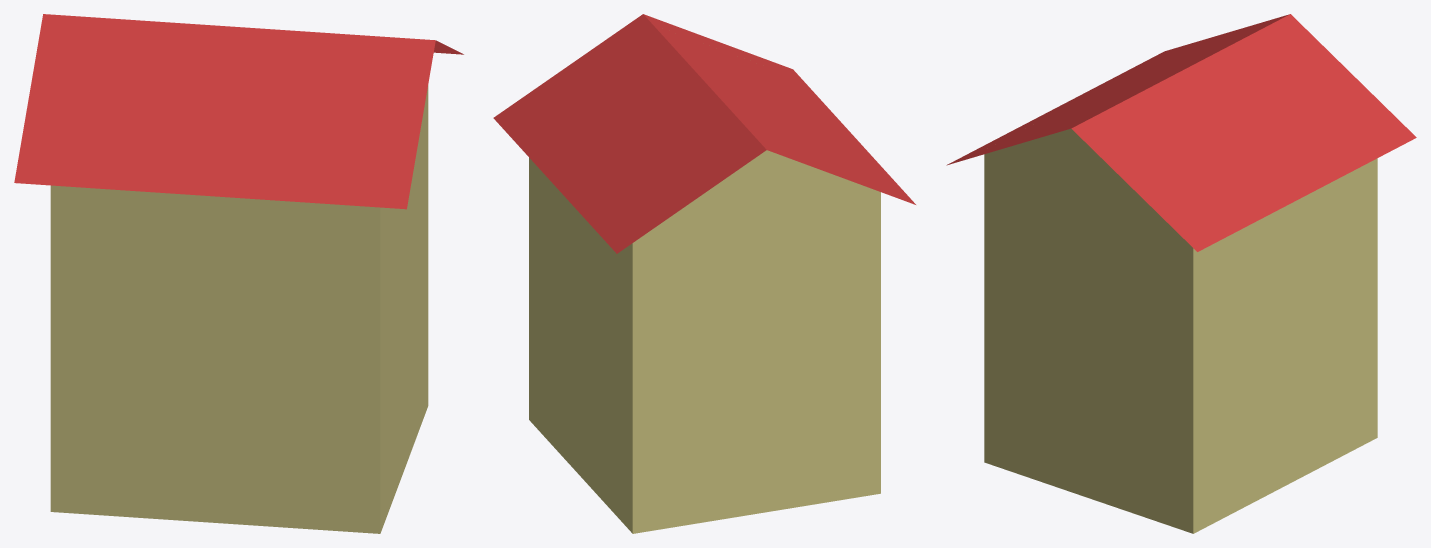
3 views of the same model, side by side, from view 1: azimuth 30°, elevation 25°; view 2: azimuth 150°, elevation 25°; view 3: azimuth 270°, elevation 25° (orthographic). The views are drawn at different scales.
Parts seen in each view (by area): view 1: group_5, group_3, group_4; view 2: group_5, group_3, group_4; view 3: group_5, group_3, group_4.
Part boxes in pixels (left/top/right/bottom): group_5: left=50, top=85, right=428, bottom=533; group_3: left=14, top=14, right=405, bottom=209; group_4: left=43, top=14, right=463, bottom=209; group_5: left=529, top=150, right=880, bottom=533; group_3: left=493, top=14, right=915, bottom=253; group_4: left=559, top=14, right=828, bottom=190; group_5: left=984, top=128, right=1377, bottom=533; group_3: left=947, top=14, right=1416, bottom=251; group_4: left=946, top=14, right=1288, bottom=165.
Size of the model in its own units: 12.76 by 12.66 by 11.22.
